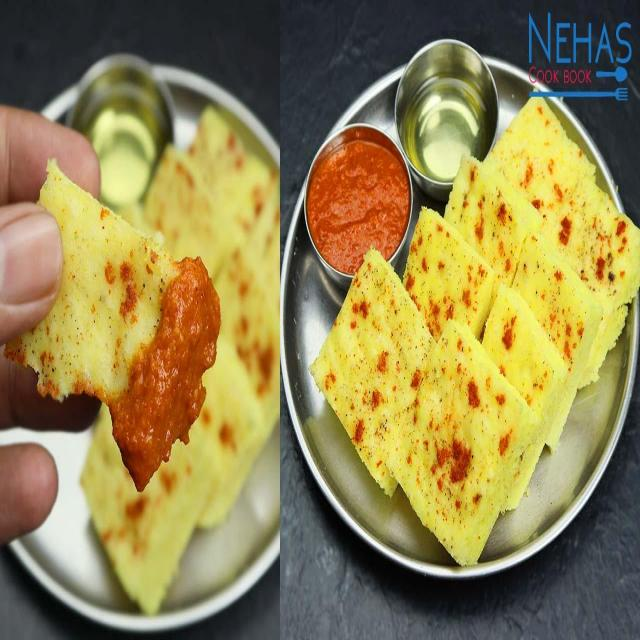dhokla: (327, 102, 614, 542), (41, 106, 285, 610)
